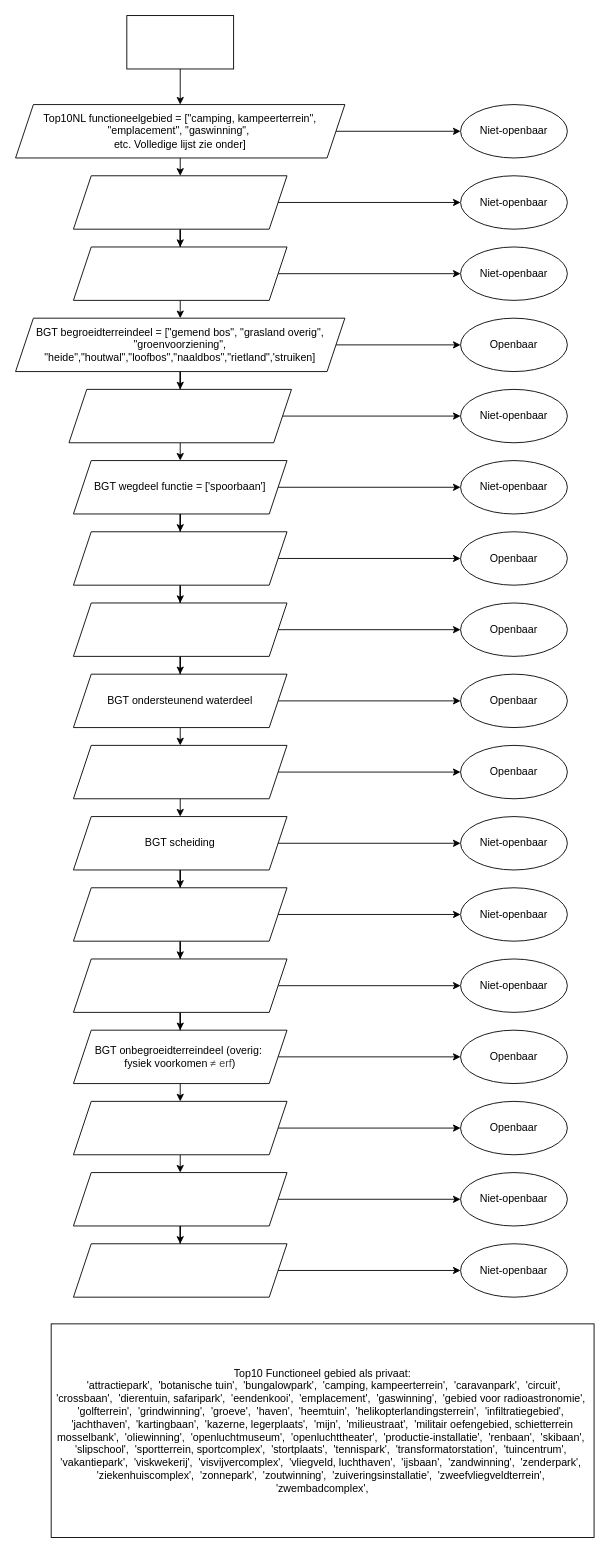
The diagram is 610 pixels wide and 1553 high, and some of its shapes have lost their labels. The shapes that lost their labels are listed below. From the top down, each one's box as (x1, y1, x2, y2) in pixels, then its label:
(126, 15, 234, 69): Start
(73, 175, 287, 229): BGT pand
(73, 246, 287, 300): BGT onbegroeidterreindeel fysiek voorkomen = erf
(68, 388, 291, 443): BGT begroeidterreindeel (niet in vorige stappen)
(73, 531, 287, 585): BGT wegdeel (overig: geen spoorbaan)
(73, 602, 287, 656): BGT waterdeel
(73, 744, 287, 799): BGT ondersteunend wegdeel
(73, 887, 287, 941): BGT overig bouwwerk
(73, 958, 287, 1012): TOP10NL functioneel gebied = ['haven']
(73, 1100, 287, 1155): BGT kunstwerkdeel type = ['perron']
(73, 1172, 287, 1226): BGT kunstwerkdeel (overig: geen perron)
(73, 1243, 287, 1297): BGT overbruggingsdeel
